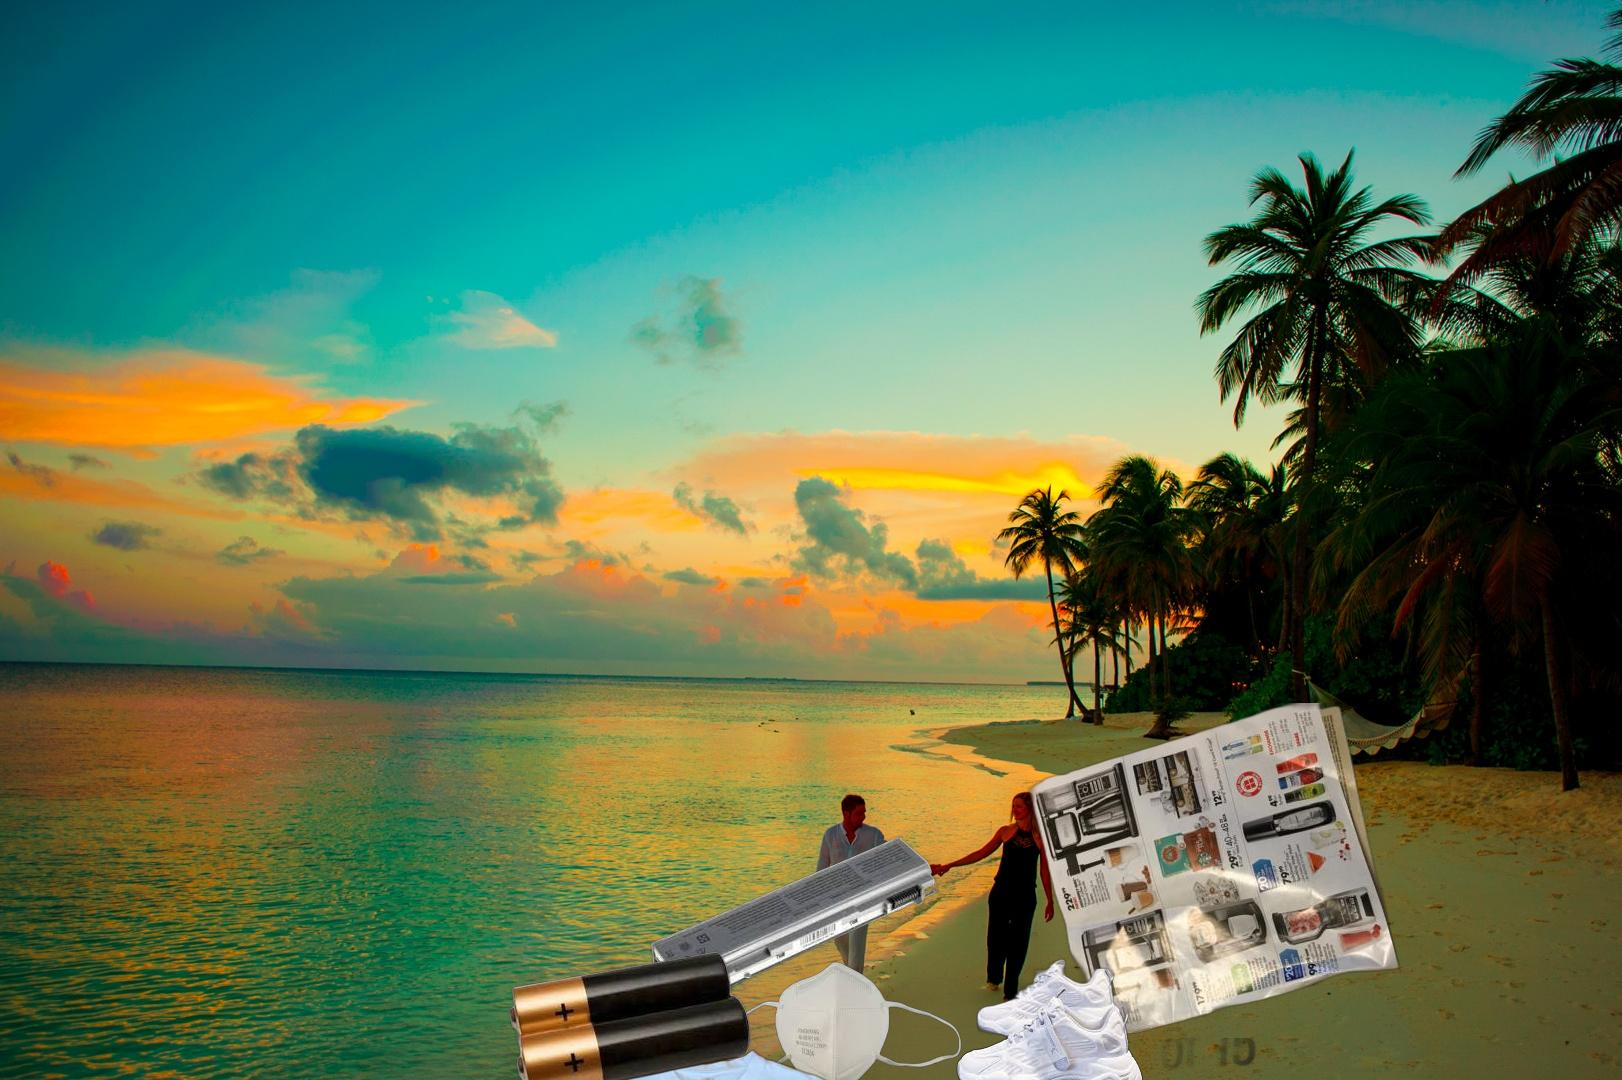battery: (650, 837, 939, 1010), (506, 949, 754, 1080)
clothes: (493, 1047, 924, 1080)
paper: (1025, 703, 1404, 1043)
shoes: (954, 956, 1146, 1080)
trash: (713, 959, 964, 1080)
trashbox-cardboard: (480, 821, 992, 1080), (762, 1038, 1273, 1080)
